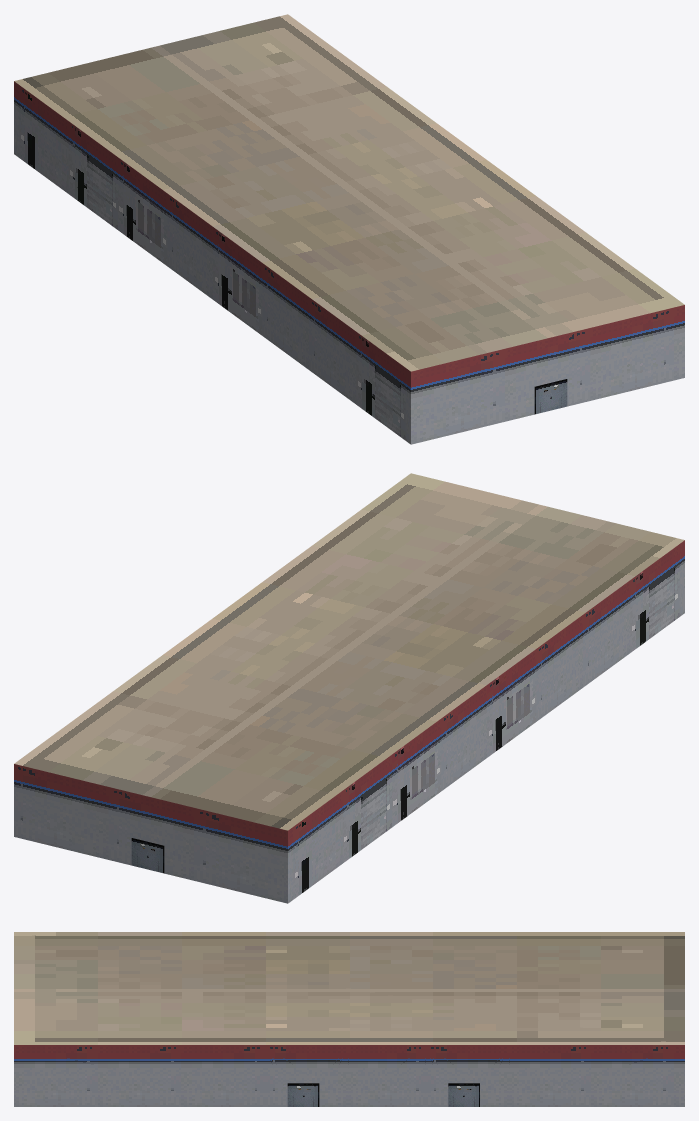
File: lodabatbuild.obj
The picture shows the model from 3 angles, top to bottom: view 1: azimuth 30°, elevation 25°; view 2: azimuth 150°, elevation 25°; view 3: azimuth 270°, elevation 25°; orthographic projection. The views are drawn at different scales.
Visible parts, largest first — view 1: lodabatbuild; view 2: lodabatbuild; view 3: lodabatbuild.
Part boxes in pixels (x1,y1,x2,y2): lodabatbuild: [14, 14, 684, 444]; lodabatbuild: [14, 473, 684, 903]; lodabatbuild: [14, 932, 684, 1106].
Bounding box in the file's own units: 34.29 × 8.74 × 86.05.
6 materials, 6 textured.
